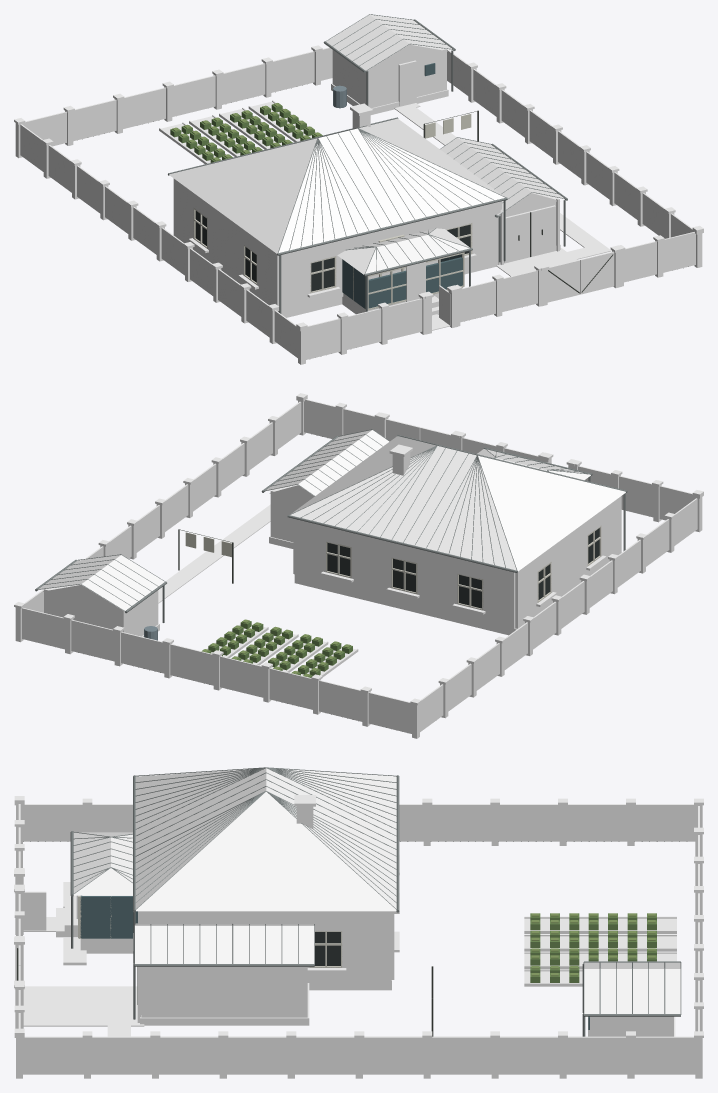
The picture shows the model from 3 angles, top to bottom: view 1: azimuth 30°, elevation 25°; view 2: azimuth 150°, elevation 25°; view 3: azimuth 270°, elevation 25°; orthographic projection. The views are drawn at different scales.
Parts seen in each view (by area): view 1: ParcelGeometry.021, SummerPlanting.019; view 2: ParcelGeometry.021, SummerPlanting.019; view 3: ParcelGeometry.021, SummerPlanting.019.
Boxes of the visible parts, bbox=[...] form: ParcelGeometry.021: bbox=[14, 14, 703, 364]; SummerPlanting.019: bbox=[170, 103, 471, 162]; ParcelGeometry.021: bbox=[14, 393, 703, 738]; SummerPlanting.019: bbox=[185, 532, 352, 677]; ParcelGeometry.021: bbox=[14, 767, 703, 1078]; SummerPlanting.019: bbox=[530, 913, 656, 982].
Bounding box in the file's own units: 20.23 × 5.96 × 24.89.
